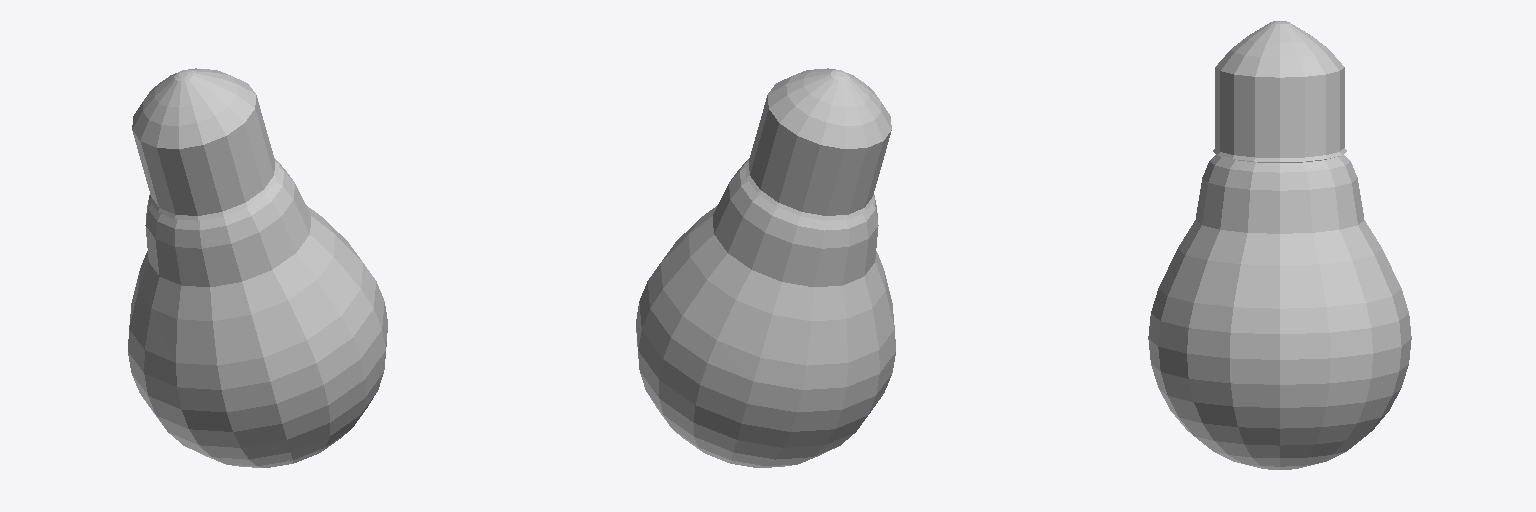
File: lamp_light_bulb.obj
3 renders of one model, left to right at view 1: azimuth 30°, elevation 25°; view 2: azimuth 150°, elevation 25°; view 3: azimuth 270°, elevation 25°, orthographic.
Visible parts, largest first — view 1: Circle.002_Circle.000; view 2: Circle.002_Circle.000; view 3: Circle.002_Circle.000.
Boxes of the visible parts, box(x1,y1,x2,y2) form: Circle.002_Circle.000: box(128, 68, 387, 467); Circle.002_Circle.000: box(636, 68, 895, 467); Circle.002_Circle.000: box(1148, 21, 1411, 469).
Bounding box in the file's own units: 0.0267 × 0.0442 × 0.0263.